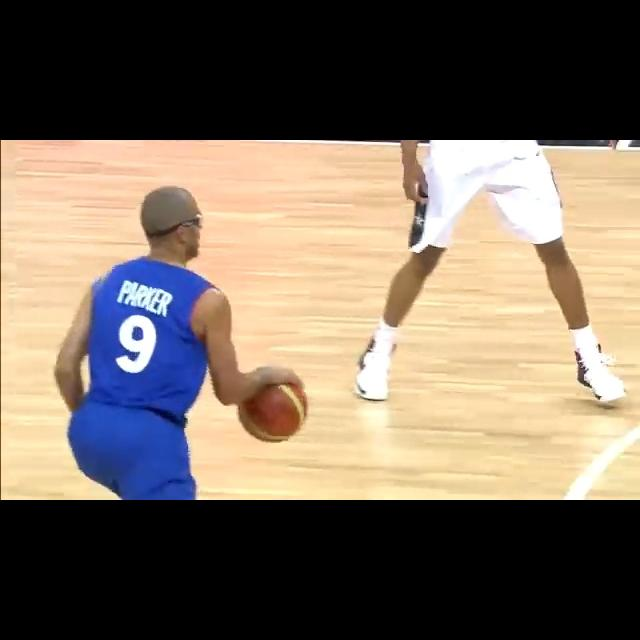basketball: (236, 376, 308, 445)
